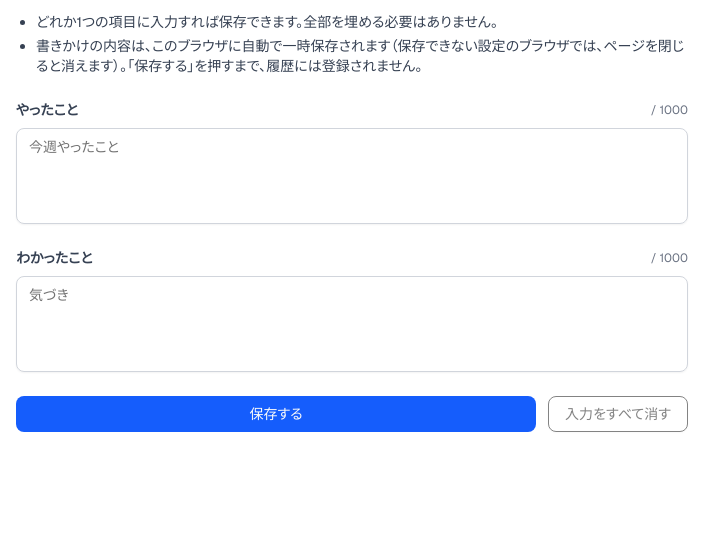
it: ReflectionForm 保存フロー › 成功すると履歴へのリンクを出し、入力欄を空にする
Type "テストを書いた" into the text box labelled "やったこと".
click(352, 176); type("テストを書いた")  # box [16, 128, 688, 224]
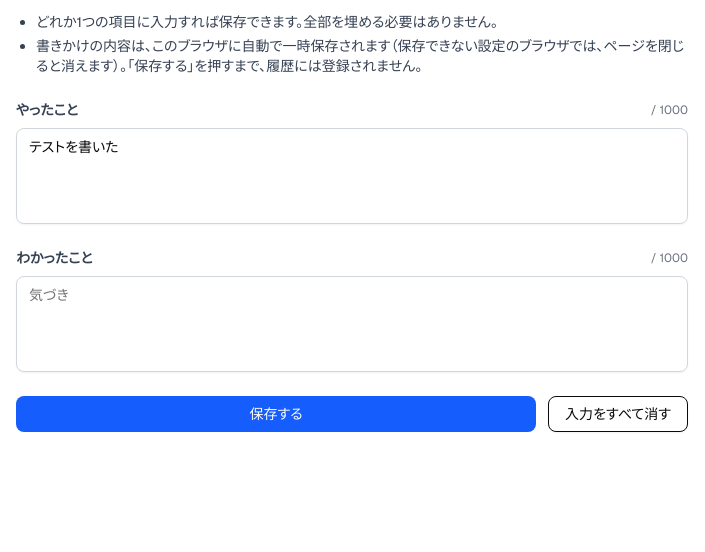
Click the button "保存する".
click(276, 414)  # box [16, 396, 536, 432]
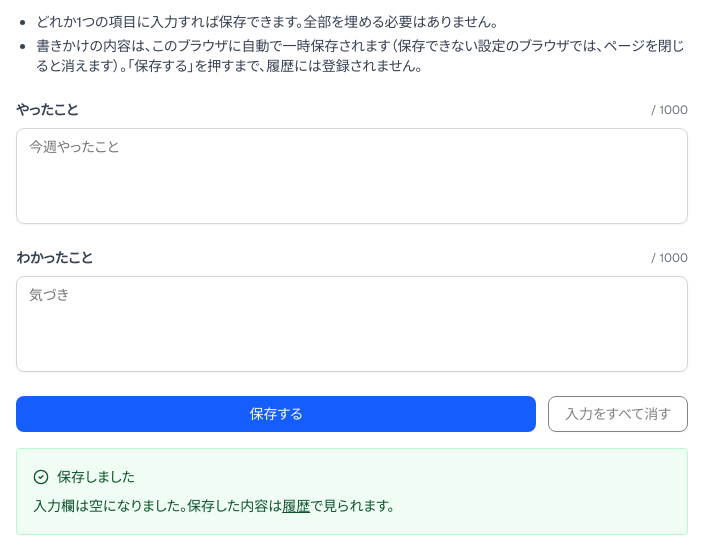
Expected: the text "保存しました" is shown, [33, 468, 135, 486]
Expected: the text box labelled "やったこと" is empty, [16, 128, 688, 224]
